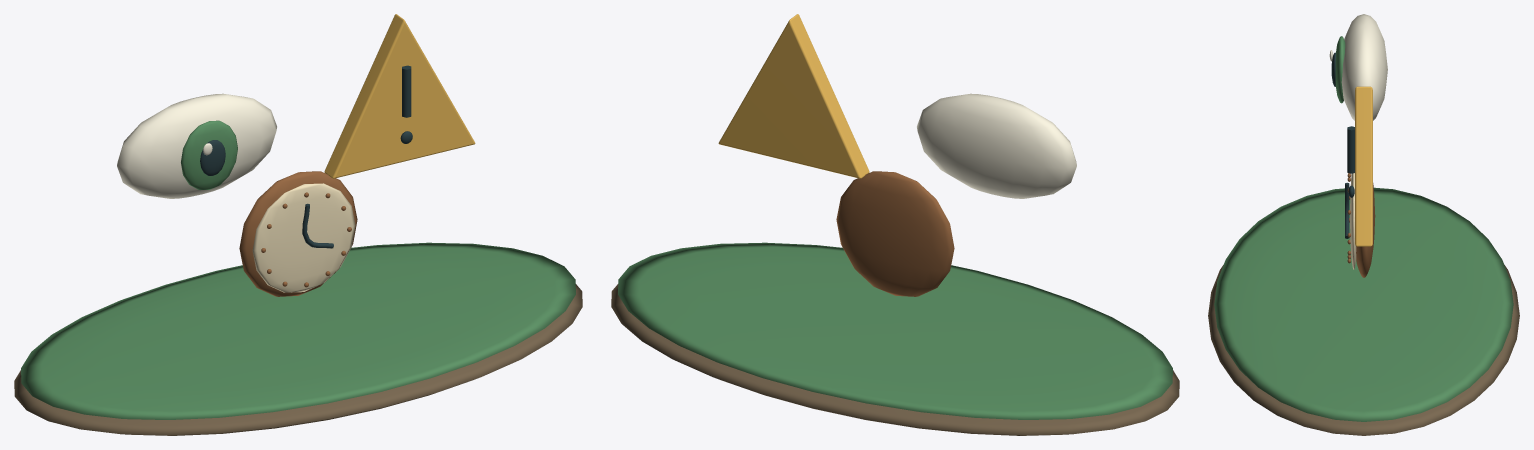
Rendered from complete-second-watching-urgency.glb.
3 views of the same model, side by side, from view 1: azimuth 30°, elevation 25°; view 2: azimuth 150°, elevation 25°; view 3: azimuth 270°, elevation 25° (orthographic). The views are drawn at different scales.
Visible parts, largest first — view 1: complete-second-watching-urgency_surface_01, complete-second-watching-urgency_surface_04, complete-second-watching-urgency_surface_00, complete-second-watching-urgency_surface_02, complete-second-watching-urgency_surface_06, complete-second-watching-urgency_surface_05, complete-second-watching-urgency_surface_03; view 2: complete-second-watching-urgency_surface_01, complete-second-watching-urgency_surface_02, complete-second-watching-urgency_surface_04, complete-second-watching-urgency_surface_05, complete-second-watching-urgency_surface_00; view 3: complete-second-watching-urgency_surface_01, complete-second-watching-urgency_surface_00, complete-second-watching-urgency_surface_02, complete-second-watching-urgency_surface_04, complete-second-watching-urgency_surface_03, complete-second-watching-urgency_surface_05, complete-second-watching-urgency_surface_06.
Part boxes in pixels (x1,y1,x2,y2): complete-second-watching-urgency_surface_01: (21,120,575,419); complete-second-watching-urgency_surface_04: (324,14,475,178); complete-second-watching-urgency_surface_00: (14,284,582,435); complete-second-watching-urgency_surface_02: (117,93,276,198); complete-second-watching-urgency_surface_06: (252,183,355,292); complete-second-watching-urgency_surface_05: (239,171,357,296); complete-second-watching-urgency_surface_03: (200,65,412,248); complete-second-watching-urgency_surface_01: (618,242,1172,419); complete-second-watching-urgency_surface_02: (917,93,1076,198); complete-second-watching-urgency_surface_04: (718,14,869,178); complete-second-watching-urgency_surface_05: (836,171,954,296); complete-second-watching-urgency_surface_00: (611,284,1179,435); complete-second-watching-urgency_surface_01: (1214,36,1513,421); complete-second-watching-urgency_surface_00: (1208,265,1519,435); complete-second-watching-urgency_surface_02: (1329,14,1387,120); complete-second-watching-urgency_surface_04: (1355,86,1372,246); complete-second-watching-urgency_surface_03: (1331,52,1354,238); complete-second-watching-urgency_surface_05: (1347,173,1375,277); complete-second-watching-urgency_surface_06: (1350,173,1356,269).
Bounding box in the file's own units: 4.56 × 2.55 × 2.5.
